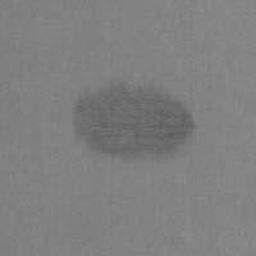Oil spot: (73, 82, 196, 160)
